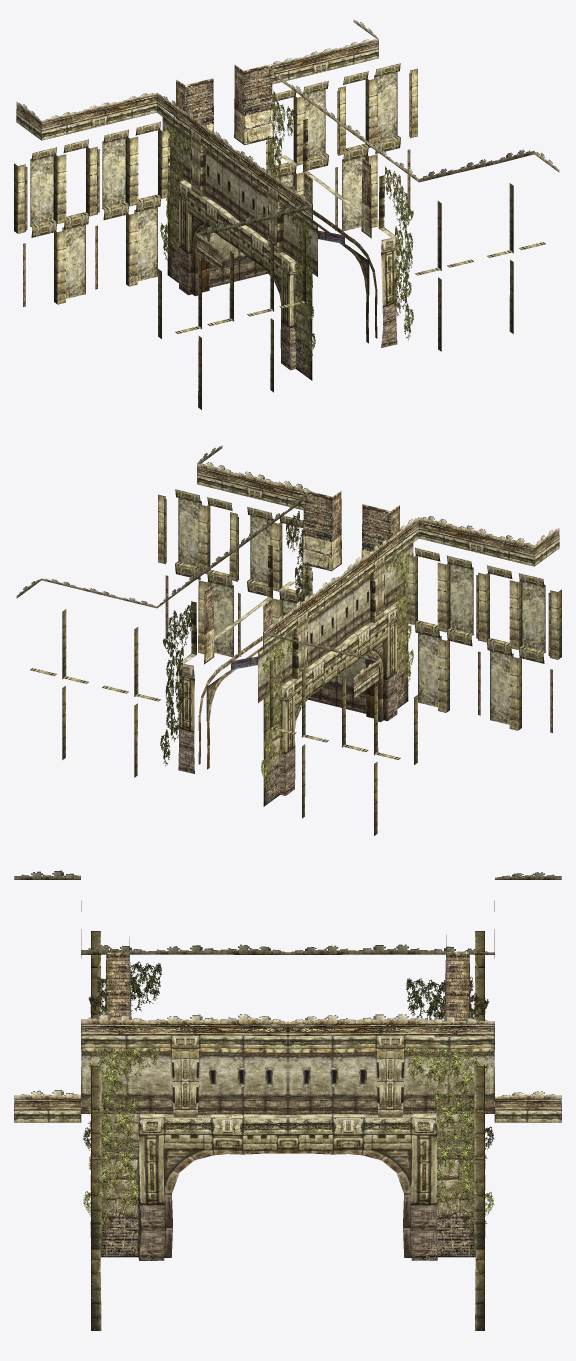
Rendered from OZ_09_wv_tunnel01A.glb.
3 renders of one model, top to bottom at view 1: azimuth 30°, elevation 25°; view 2: azimuth 150°, elevation 25°; view 3: azimuth 270°, elevation 25°, orthographic. The views are drawn at different scales.
Visible parts, largest first — view 1: OM_09_wv_tunnel01A; view 2: OM_09_wv_tunnel01A; view 3: OM_09_wv_tunnel01A.
Boxes of the visible parts, x1,y1,x2,y2 form: OM_09_wv_tunnel01A: (14, 19, 559, 409); OM_09_wv_tunnel01A: (16, 445, 561, 835); OM_09_wv_tunnel01A: (14, 870, 561, 1330).
Bounding box in the file's own units: 26.12 × 12.42 × 23.27.
6 materials, 6 textured.
